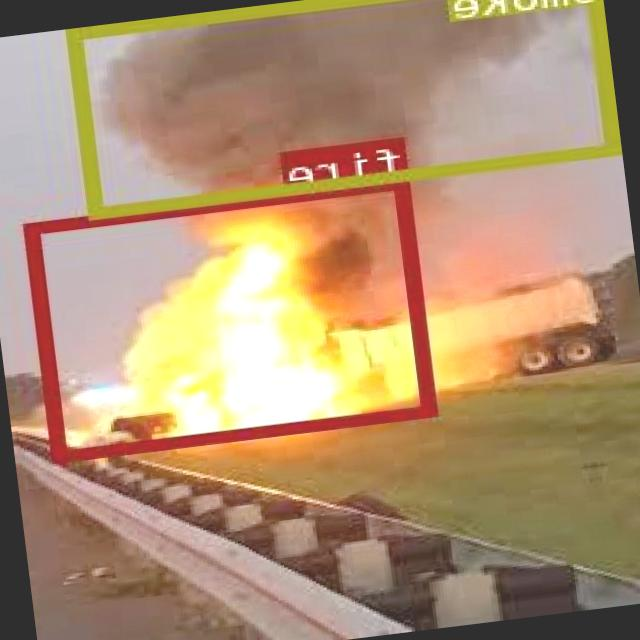fire: (27, 175, 440, 460)
smoke: (71, 0, 621, 216)
